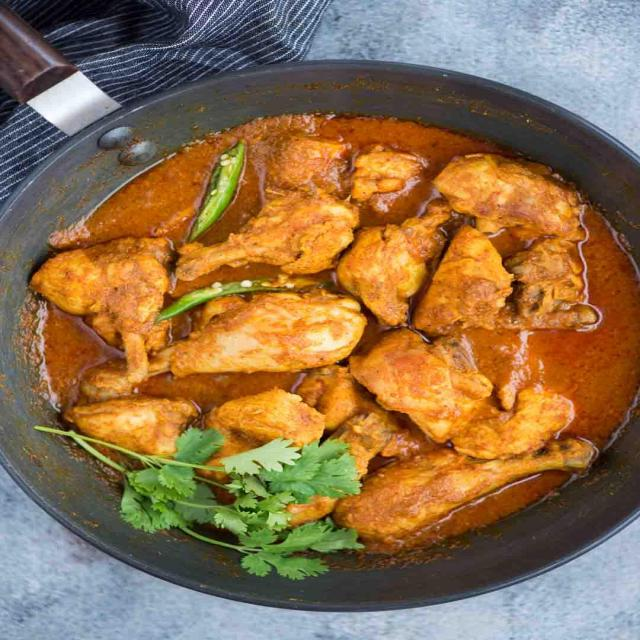chicken: (38, 129, 640, 553)
